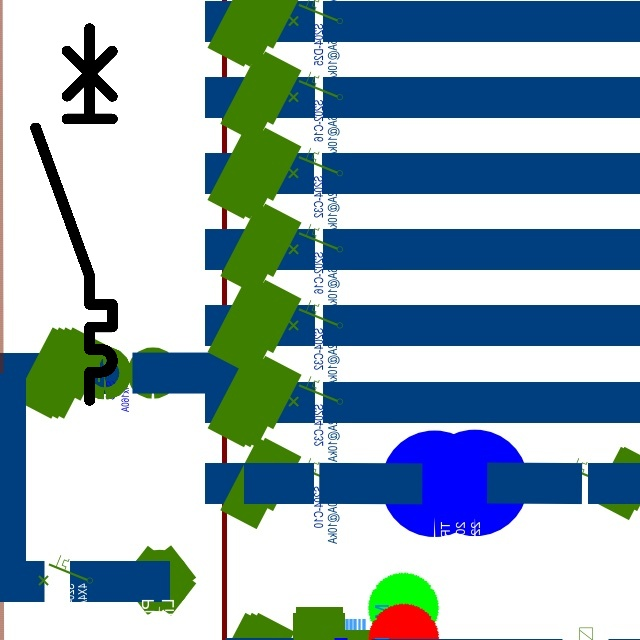interruptor_termomagnetico: (26, 19, 122, 410)
